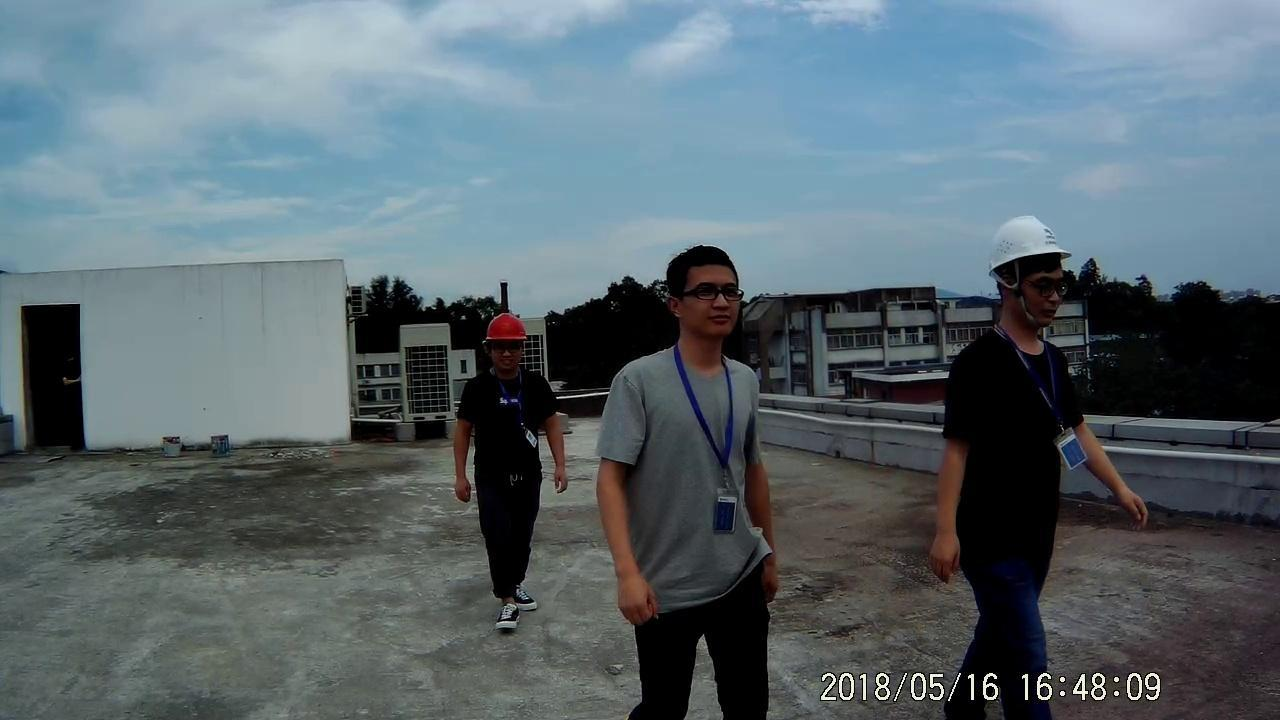helmet: (986, 218, 1064, 270), (484, 312, 531, 350)
no-helmet: (664, 240, 743, 284)
no-vest: (613, 352, 772, 576), (964, 338, 1073, 559), (459, 363, 559, 495)
person: (601, 236, 789, 720), (935, 210, 1081, 672), (441, 304, 582, 662)
